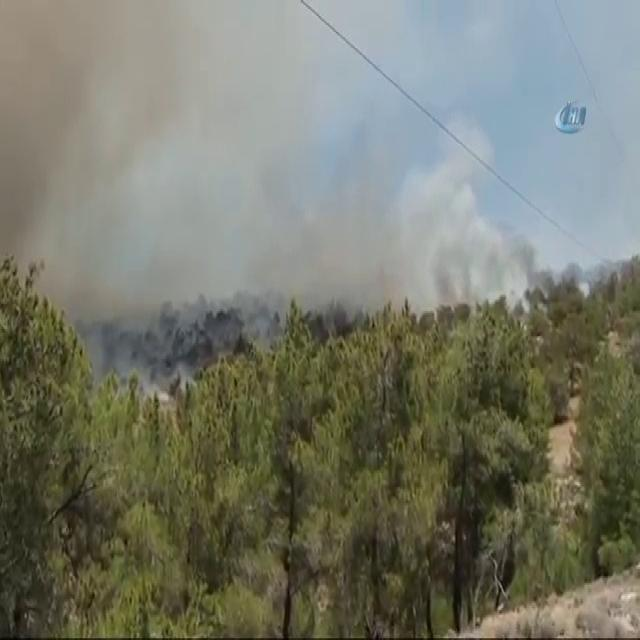Smoke: (1, 1, 303, 269), (301, 125, 536, 314)
